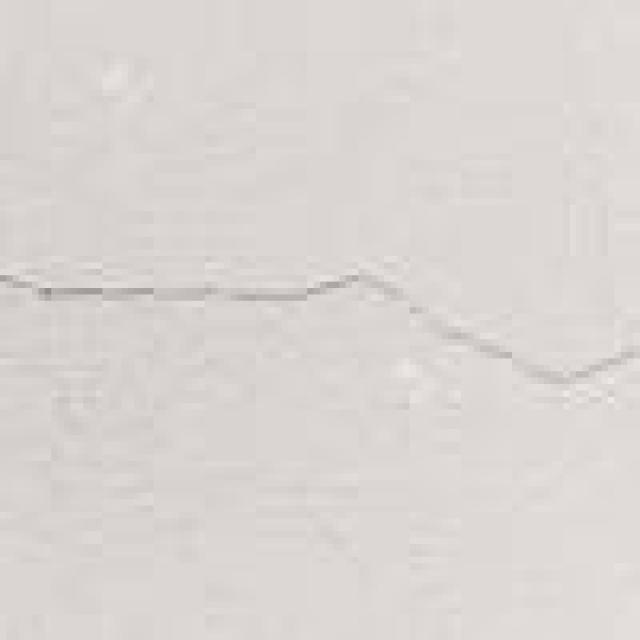Crack: (0, 256, 627, 378)
